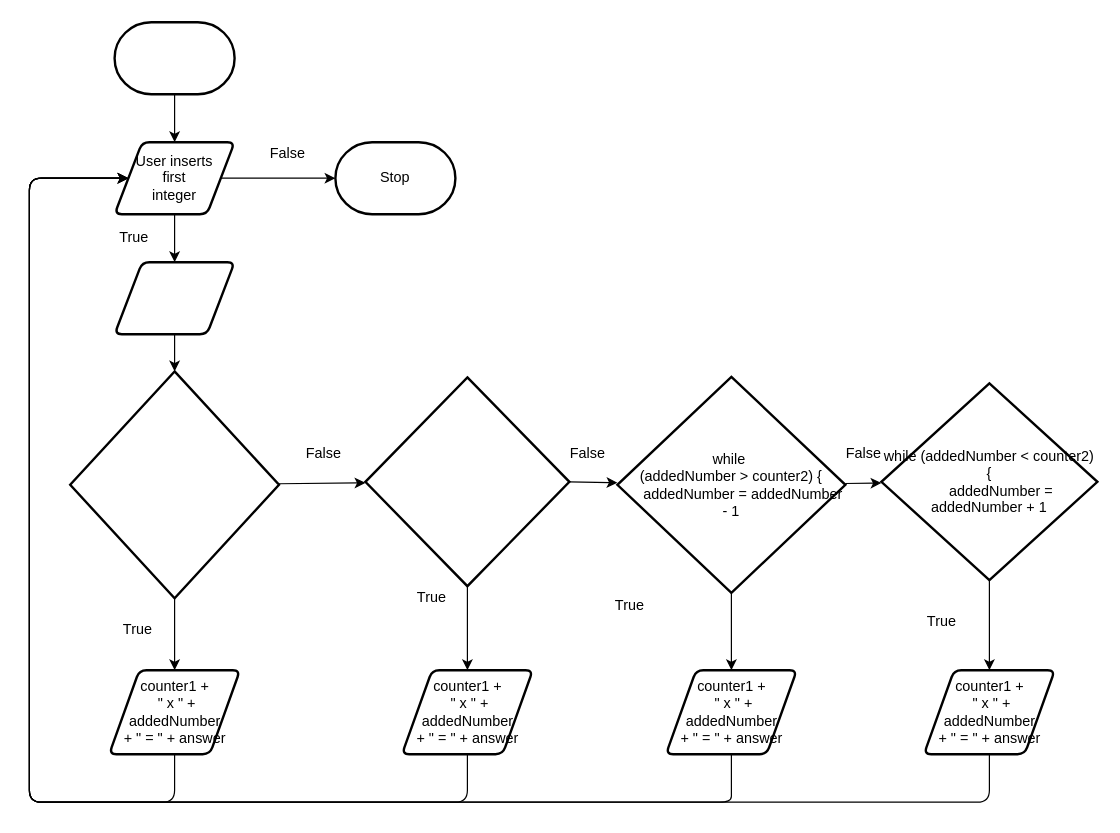
The diagram is 1120 pixels wide and 833 high, and some of its shapes have lost their labels. The shapes that lost their labels are listed below. From the top down, each one's centre as x and y in pixels, then its label:
point (174, 57): Start
point (174, 297): User inserts second integer
point (174, 484): while (addedNumber < counter2) addedNumber = addedNumber + 1
point (467, 481): while (addedNumber > counter2) addedNumber = addedNumber - 1
